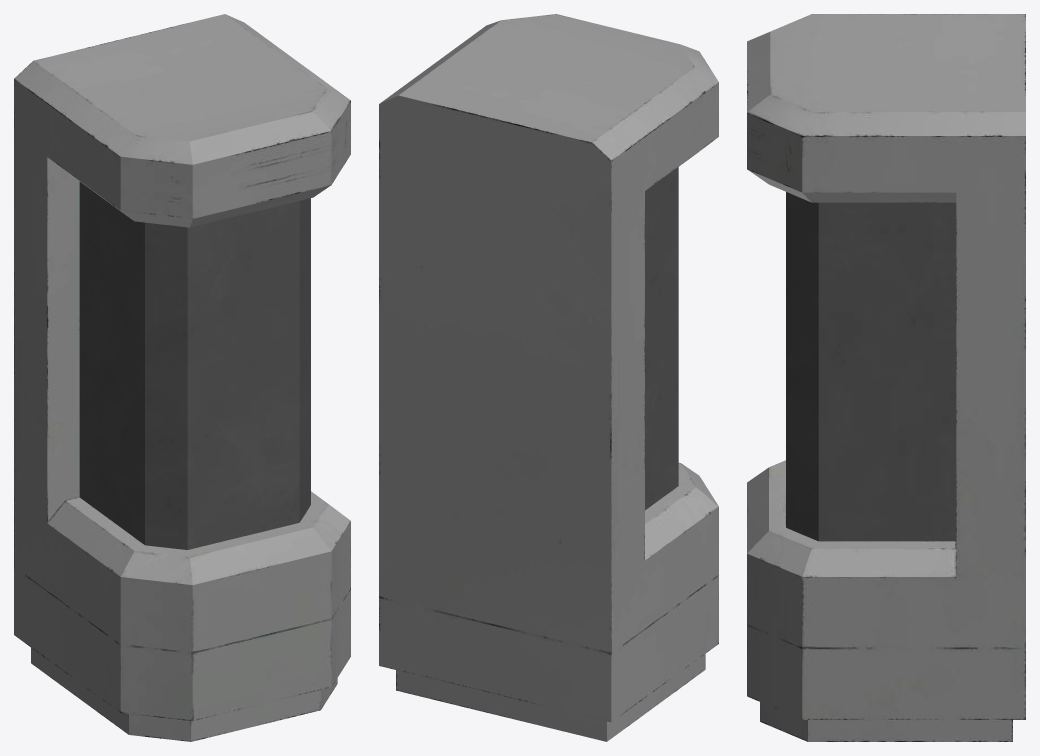
File: Cont_DisplayCase_2.glb
3 renders of one model, left to right at view 1: azimuth 30°, elevation 25°; view 2: azimuth 150°, elevation 25°; view 3: azimuth 270°, elevation 25°, orthographic. The views are drawn at different scales.
Visible parts, largest first — view 1: Cont_DisplayCase_2, Cont_DisplayCase_2_Glass; view 2: Cont_DisplayCase_2, Cont_DisplayCase_2_Glass; view 3: Cont_DisplayCase_2, Cont_DisplayCase_2_Glass.
Part boxes in pixels (bbox=[...]): Cont_DisplayCase_2: bbox=[14, 14, 350, 741]; Cont_DisplayCase_2_Glass: bbox=[79, 181, 310, 549]; Cont_DisplayCase_2: bbox=[379, 14, 718, 741]; Cont_DisplayCase_2_Glass: bbox=[645, 167, 678, 510]; Cont_DisplayCase_2: bbox=[747, 14, 1025, 741]; Cont_DisplayCase_2_Glass: bbox=[786, 192, 956, 541].
Size of the model in its own units: 0.9686 by 2.4 by 0.9686.
Materials: 2 (2 with a texture image).
